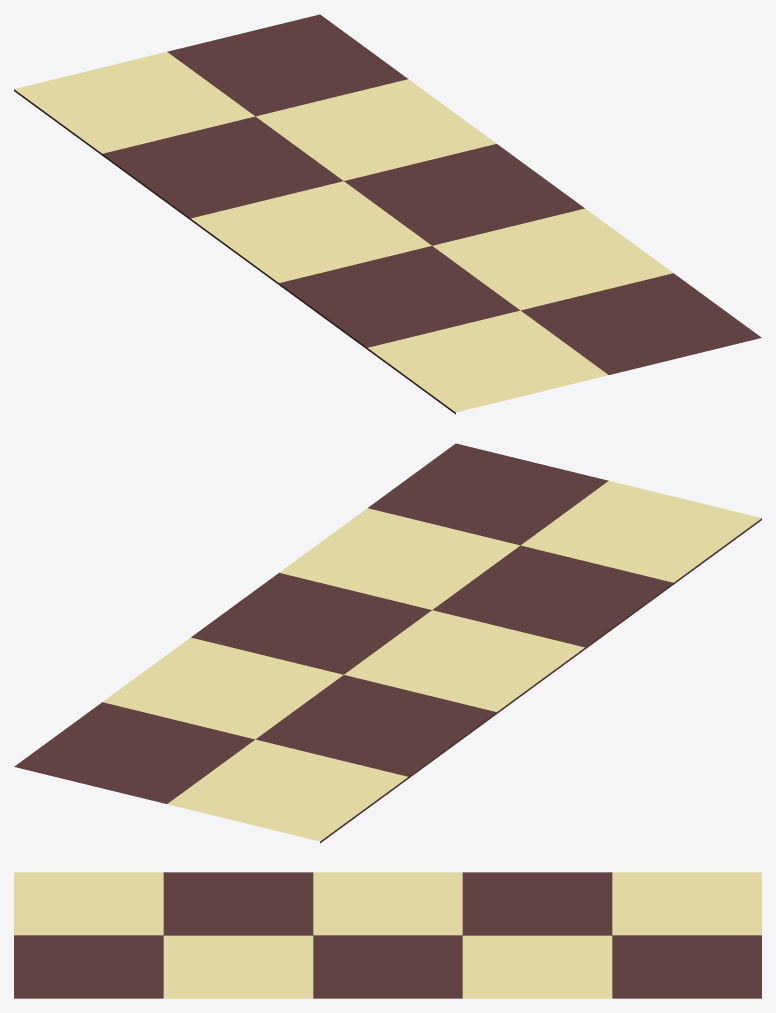
The model's file is Finish_Line.fbx.
3 views of the same model, one above another, from view 1: azimuth 30°, elevation 25°; view 2: azimuth 150°, elevation 25°; view 3: azimuth 270°, elevation 25° (orthographic). The views are drawn at different scales.
Parts seen in each view (by area): view 1: Cube.004; view 2: Cube.004; view 3: Cube.004.
Part boxes in pixels (x1,y1,x2,y2): Cube.004: (14, 14, 761, 414); Cube.004: (14, 443, 761, 843); Cube.004: (14, 872, 761, 998).
Size of the model in its own units: 400 by 2.5 by 1000.
